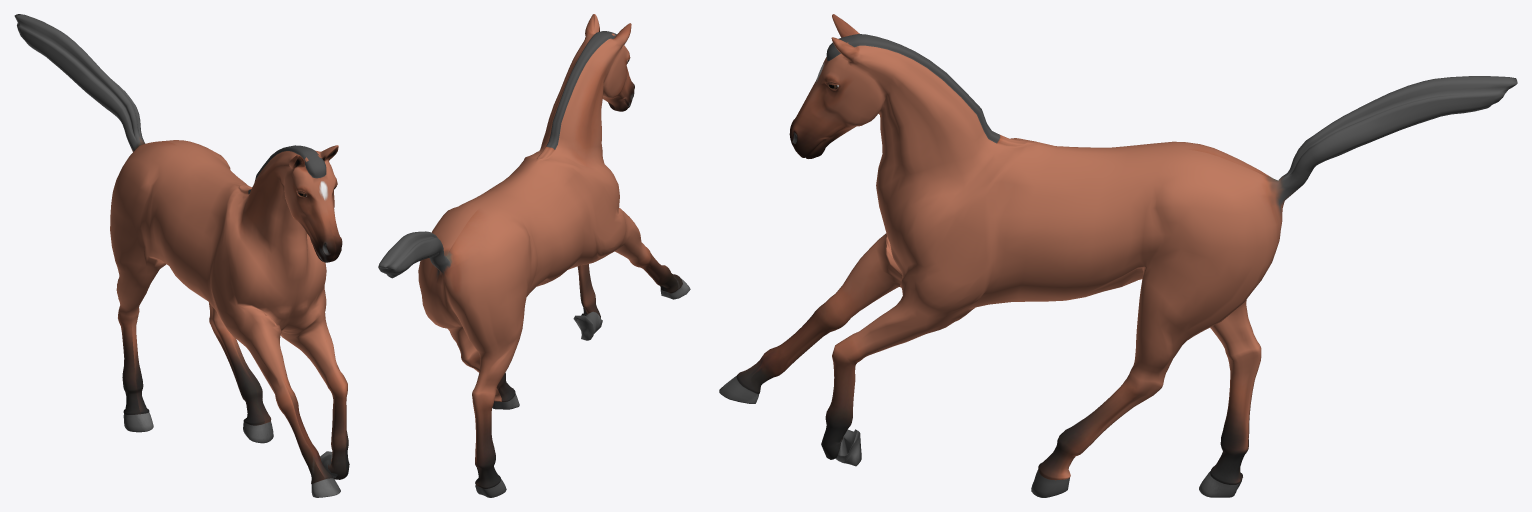
The model's file is horse_obj_20.obj.
The picture shows the model from 3 angles, left to right: view 1: azimuth 30°, elevation 25°; view 2: azimuth 150°, elevation 25°; view 3: azimuth 270°, elevation 25°; orthographic projection. The views are drawn at different scales.
Parts seen in each view (by area): view 1: Figure_1; view 2: Figure_1; view 3: Figure_1.
Part boxes in pixels (x1=…): Figure_1: x1=14, y1=14, x2=349, y2=497; Figure_1: x1=378, y1=14, x2=690, y2=497; Figure_1: x1=719, y1=14, x2=1517, y2=497.
Bounding box in the file's own units: 0.2421 × 0.8731 × 1.31.
Materials: 7 (7 with a texture image).
